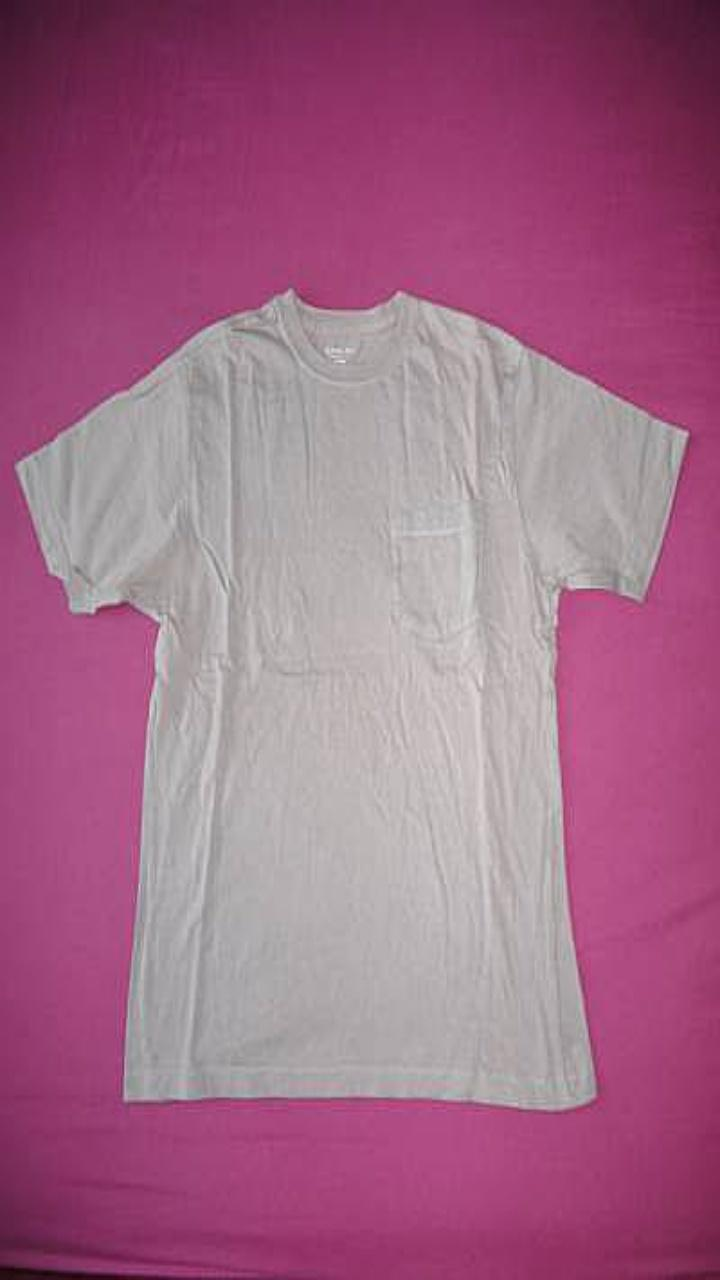T-Shirt: (14, 288, 688, 1109)
